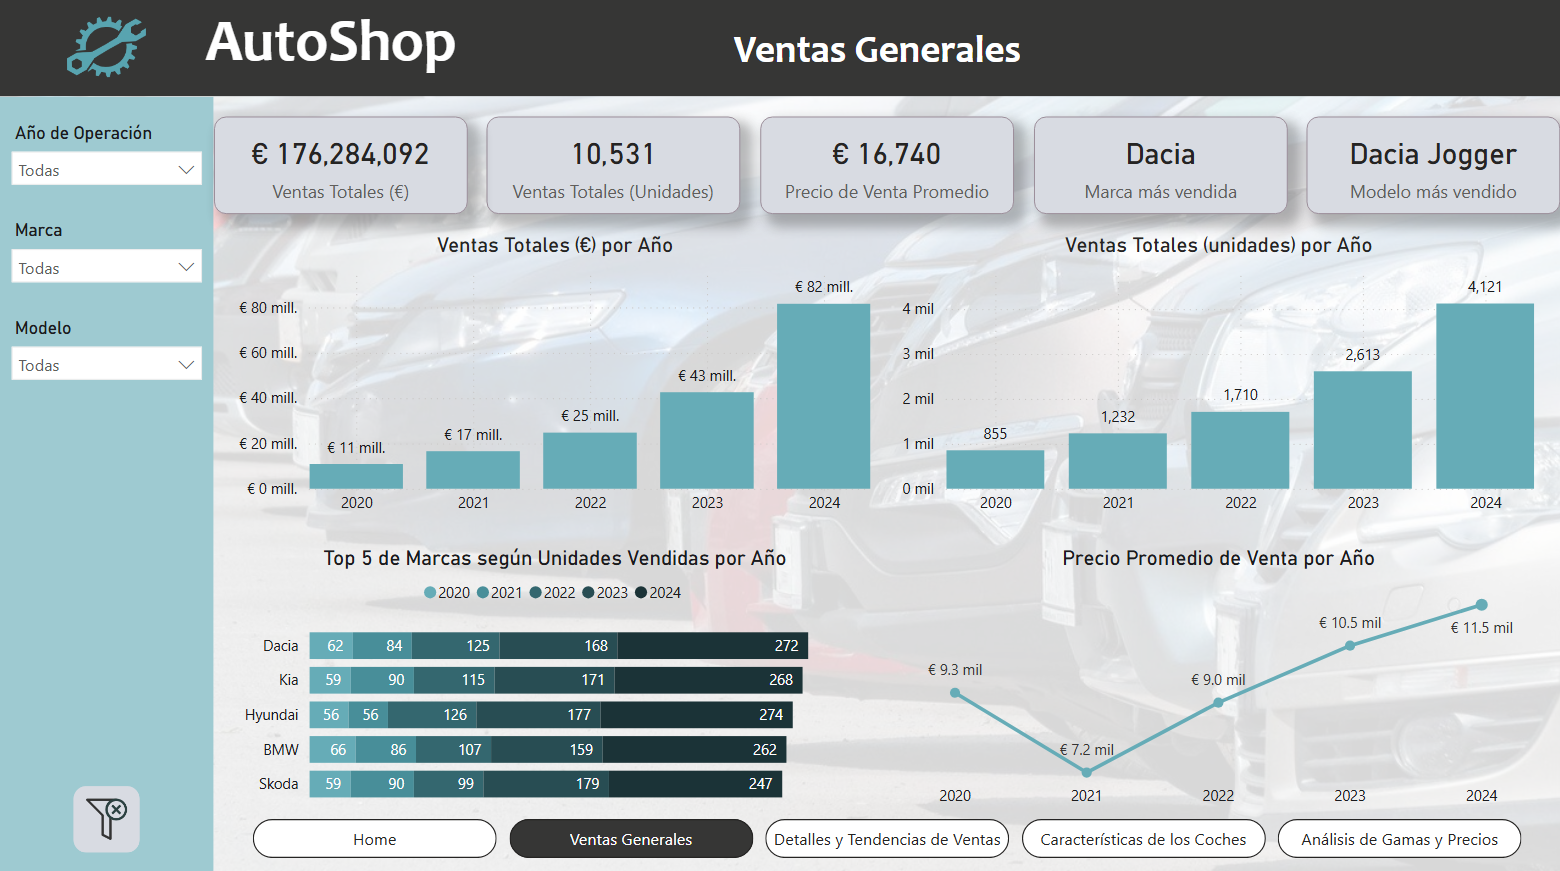

This screenshot's page, from the dashboard's own definition file:
{"tool":"powerbi","page":{"name":"Ventas Generales","canvas":[1280,720],"ordinal":1},"visuals":[{"type":"columnChart","title":"Ventas Totales (€) por Año","fields":{"Y":["_TMedidas_Ventas.VentasTotales"],"Category":["Calendario.Año"]},"box":[192,192,528,240],"z":0},{"type":"shape","box":[0,80,176,640],"z":1000},{"type":"shape","box":[0,0,1280,80],"z":3000},{"type":"slicer","fields":{"Values":["Calendario.Año"]},"box":[0,96,176,80],"z":4000},{"type":"textbox","box":[128,0,288,80],"z":5000},{"type":"slicer","fields":{"Values":["DIM_marcas.marca"]},"box":[0,176,176,80],"z":6000},{"type":"slicer","fields":{"Values":["DIM_modelos.modelo"]},"box":[0,256,176,80],"z":7000},{"type":"card","fields":{"Values":["_TMedidas_Ventas.VentasTotalesUnid"]},"box":[400,96,208,80],"z":8000},{"type":"card","fields":{"Values":["_TMedidas_Ventas.PrecioVentaPromedio"]},"box":[624,96,208,80],"z":9000},{"type":"card","fields":{"Values":["_TMedidas_Ventas.VentasTotales"]},"box":[176,96,208,80],"z":10000},{"type":"card","fields":{"Values":["_TMedidas_Ventas.MarcaMasVendida"]},"box":[848,96,208,80],"z":11000},{"type":"card","fields":{"Values":["_TMedidas_Ventas.ModeloMasVendido"]},"box":[1072,96,208,80],"z":12000},{"type":"textbox","box":[496,16,448,64],"z":13000},{"type":"columnChart","title":"Ventas Totales (unidades) por Año","fields":{"Y":["_TMedidas_Ventas.OperacionesTotales"],"Category":["Calendario.Año"]},"box":[736,192,528,240],"z":14000},{"type":"barChart","title":"Top 5 de Marcas según Unidades Vendidas por Año","fields":{"Y":["_TMedidas_Ventas.OperacionesTotales"],"Category":["DIM_marcas.marca"],"Series":["Calendario.Año"]},"box":[192,448,528,224],"z":15000},{"type":"lineChart","title":"Precio Promedio de Venta por Año","fields":{"Category":["Calendario.Año"],"Y":["_TMedidas_Ventas.PrecioVentaPromedio"]},"box":[736,448,528,224],"z":16000},{"type":"image","box":[48,640,80,64],"z":17000},{"type":"image","box":[48,0,80,80],"z":18000},{"type":"pageNavigator","box":[208,672,1040,32],"z":19000}]}

Visuals, with their boxes in screenshot pixels (x1, y1, x2, y2), scaled from the page's 1280x720 canvas onto the 1560x871 screenshot:
"Ventas Totales (€) por Año" columnChart: 234/232/878/523
shape: 0/97/214/870
shape: 0/0/1559/97
slicer - Calendario.Año: 0/116/214/213
textbox: 156/0/507/97
slicer - DIM_marcas.marca: 0/213/214/310
slicer - DIM_modelos.modelo: 0/310/214/406
card - _TMedidas_Ventas.VentasTotalesUnid: 488/116/741/213
card - _TMedidas_Ventas.PrecioVentaPromedio: 760/116/1014/213
card - _TMedidas_Ventas.VentasTotales: 214/116/468/213
card - _TMedidas_Ventas.MarcaMasVendida: 1034/116/1287/213
card - _TMedidas_Ventas.ModeloMasVendido: 1306/116/1559/213
textbox: 604/19/1150/97
"Ventas Totales (unidades) por Año" columnChart: 897/232/1540/523
"Top 5 de Marcas según Unidades Vendidas por Año" barChart: 234/542/878/813
"Precio Promedio de Venta por Año" lineChart: 897/542/1540/813
image: 58/774/156/852
image: 58/0/156/97
pageNavigator: 254/813/1521/852
